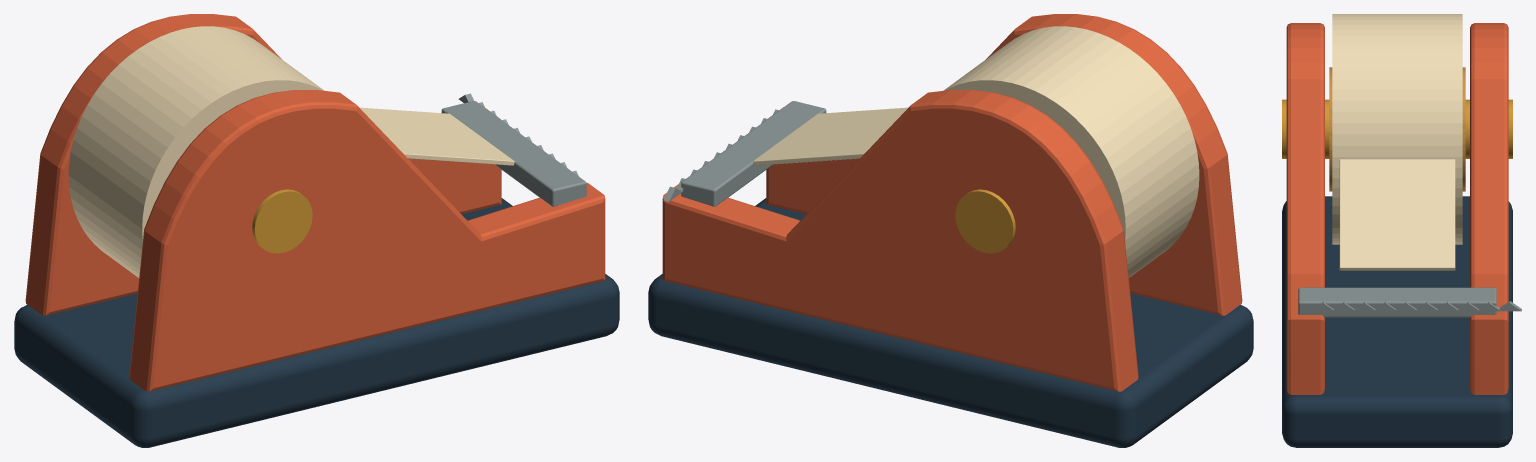
Rendered from mail-tape-dispenser.glb.
3 renders of one model, left to right at view 1: azimuth 30°, elevation 25°; view 2: azimuth 150°, elevation 25°; view 3: azimuth 270°, elevation 25°, orthographic. The views are drawn at different scales.
Parts seen in each view (by area): view 1: Tape_Coral_Cheek_0.031, Tape_Weighted_Base, Tape_Cream_Roll, Tape_Coral_Cheek_-0.031, Tape_Cutter_Bar, Tape_Exposed_Strip, Tape_Brass_Spindle; view 2: Tape_Coral_Cheek_-0.031, Tape_Weighted_Base, Tape_Cream_Roll, Tape_Coral_Cheek_0.031, Tape_Cutter_Bar, Tape_Exposed_Strip, Tape_Brass_Spindle; view 3: Tape_Weighted_Base, Tape_Cream_Roll, Tape_Coral_Cheek_0.031, Tape_Coral_Cheek_-0.031, Tape_Exposed_Strip, Tape_Cutter_Bar, Tape_Brass_Spindle, Tape_Cardboard_Core.
Boxes of the visible parts, x1,y1,x2,y2 form: Tape_Coral_Cheek_0.031: (129,90,605,391); Tape_Weighted_Base: (14,198,619,447); Tape_Cream_Roll: (68,26,324,277); Tape_Coral_Cheek_-0.031: (25,14,501,315); Tape_Cutter_Bar: (441,101,586,206); Tape_Exposed_Strip: (360,107,514,165); Tape_Brass_Spindle: (252,189,312,253); Tape_Coral_Cheek_-0.031: (662,90,1138,391); Tape_Weighted_Base: (648,198,1253,447); Tape_Cream_Roll: (943,26,1199,277); Tape_Coral_Cheek_0.031: (766,14,1242,315); Tape_Cutter_Bar: (681,101,826,206); Tape_Exposed_Strip: (753,107,907,165); Tape_Brass_Spindle: (955,189,1015,253); Tape_Weighted_Base: (1282,196,1512,447); Tape_Cream_Roll: (1332,14,1462,244); Tape_Coral_Cheek_0.031: (1286,23,1324,394); Tape_Coral_Cheek_-0.031: (1470,23,1508,394); Tape_Exposed_Strip: (1339,159,1455,270); Tape_Cutter_Bar: (1298,287,1496,317); Tape_Brass_Spindle: (1282,99,1512,158); Tape_Cardboard_Core: (1329,67,1465,191).
Bounding box in the file's own units: 0.168 × 0.1045 × 0.081.
Materials: 6 (1 with a texture image).
